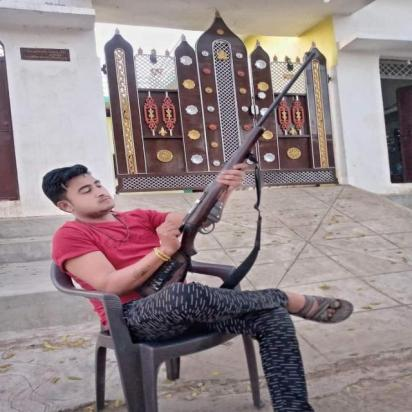Gun: (134, 50, 318, 300)
